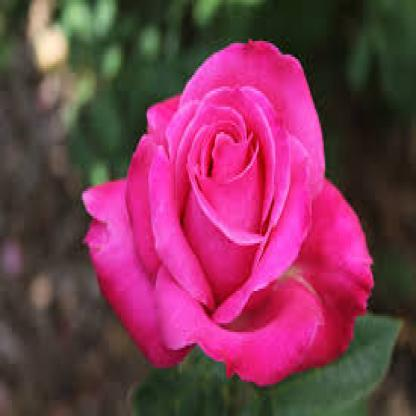Rose-Mawar: (78, 35, 375, 385)
